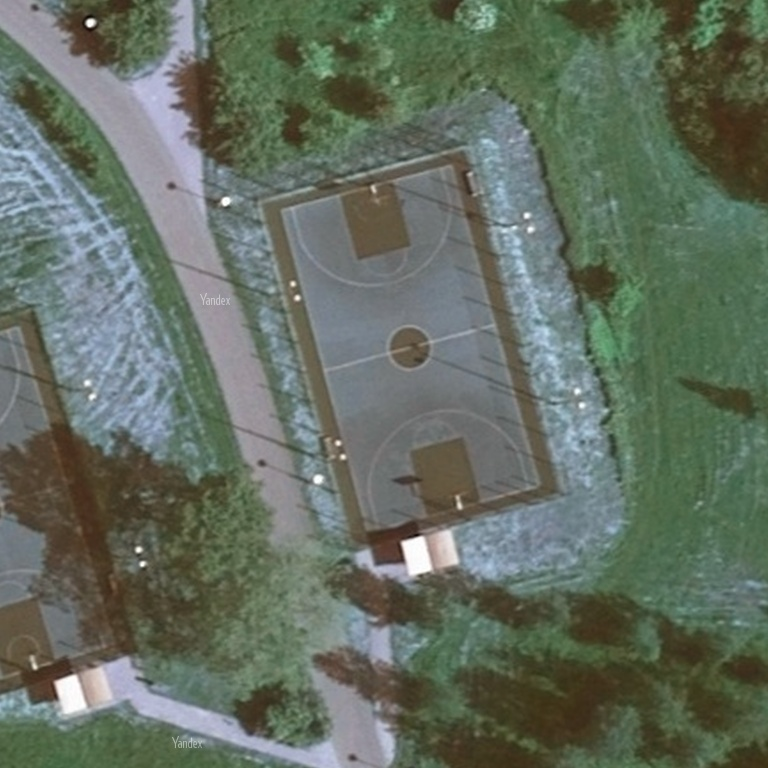basket_court: (242, 138, 572, 549)
